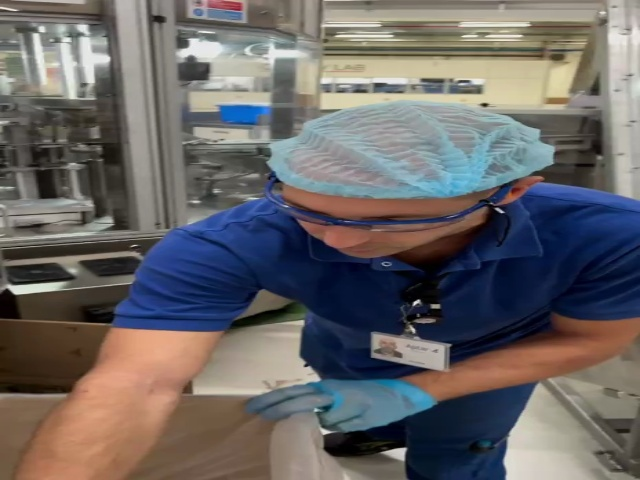Earplug: (494, 175, 533, 207)
Hairnet: (263, 100, 551, 195)
No_Helmet: (274, 104, 542, 182)
No_Vest: (223, 188, 639, 353)
Person: (79, 100, 640, 480)
Safety_Goggles: (270, 183, 538, 233)
